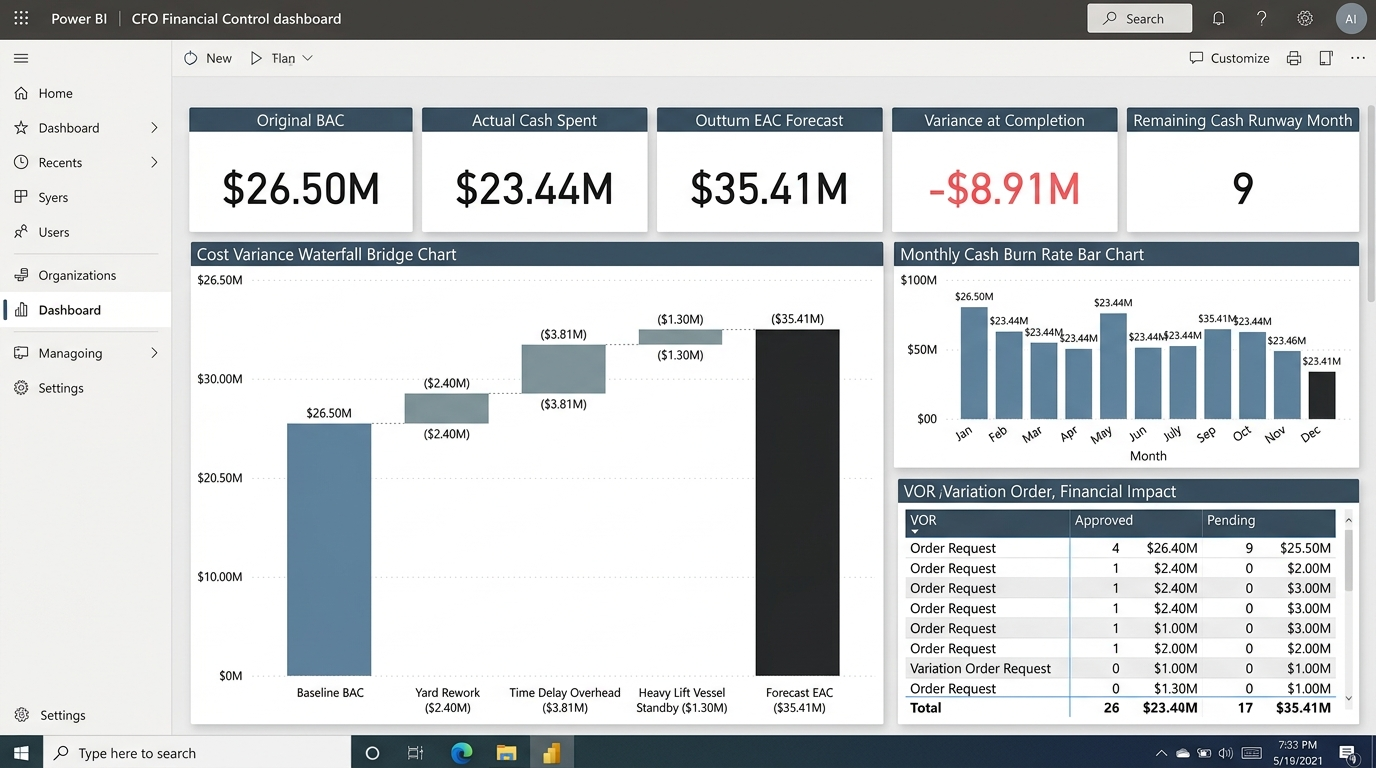

What the dashboard file says about the page in this screenshot:
{"tool":"powerbi","page":{"name":"📈 Executive Runway & Cash Burn","canvas":[1280,720],"ordinal":0},"visuals":[{"type":"card","box":[20,20,220,100],"z":0},{"type":"card","box":[250,20,220,100],"z":1000},{"type":"card","box":[480,20,220,100],"z":2000},{"type":"card","box":[710,20,220,100],"z":3000},{"type":"waterfallChart","box":[20,140,600,260],"z":4000},{"type":"clusteredColumnChart","box":[640,140,600,260],"z":5000}]}

Visuals, with their boxes on the page's 1280x720 design canvas (x1, y1, x2, y2). These are canvas units, not pixel positions in the 1376x768 screenshot, which may show the page scaled, cropped or inside an application window:
card: <bbox>20, 20, 240, 120</bbox>
card: <bbox>250, 20, 470, 120</bbox>
card: <bbox>480, 20, 700, 120</bbox>
card: <bbox>710, 20, 930, 120</bbox>
waterfallChart: <bbox>20, 140, 620, 400</bbox>
clusteredColumnChart: <bbox>640, 140, 1240, 400</bbox>
